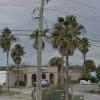Palm tree: (51, 10, 91, 80)
